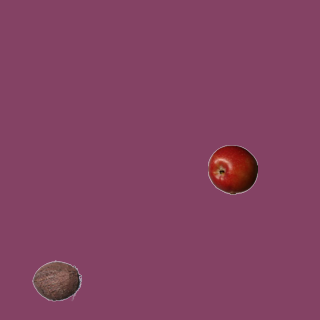Apple Braeburn: (207, 144, 257, 194)
Cocos: (31, 255, 81, 305)
